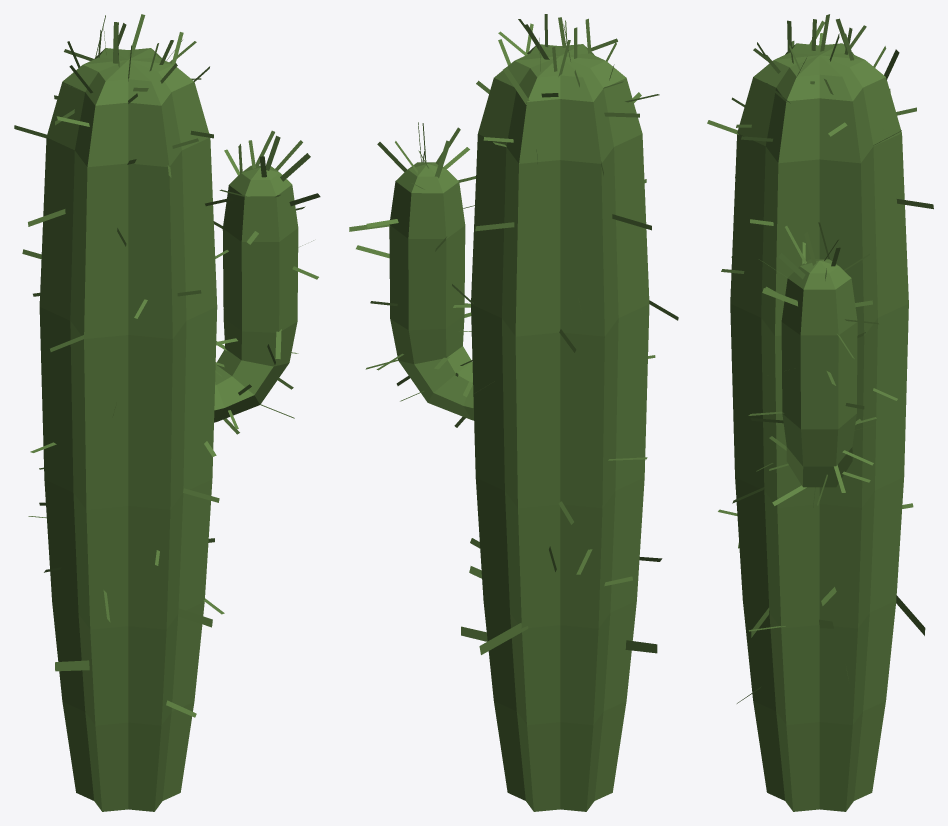
File: SM_Succulent_Cactus_Tall_Sapling_A.fbx
3 views of the same model, side by side, from view 1: azimuth 30°, elevation 25°; view 2: azimuth 150°, elevation 25°; view 3: azimuth 270°, elevation 25° (orthographic).
Visible parts, largest first — view 1: succulent-cactus-tall-sapling-a; view 2: succulent-cactus-tall-sapling-a; view 3: succulent-cactus-tall-sapling-a.
Boxes of the visible parts, x1,y1,x2,y2 form: succulent-cactus-tall-sapling-a: (14,14,320,811); succulent-cactus-tall-sapling-a: (349,14,678,811); succulent-cactus-tall-sapling-a: (707,14,933,811).
Bounding box in the file's own units: 0.4997 × 1.25 × 0.3323.
